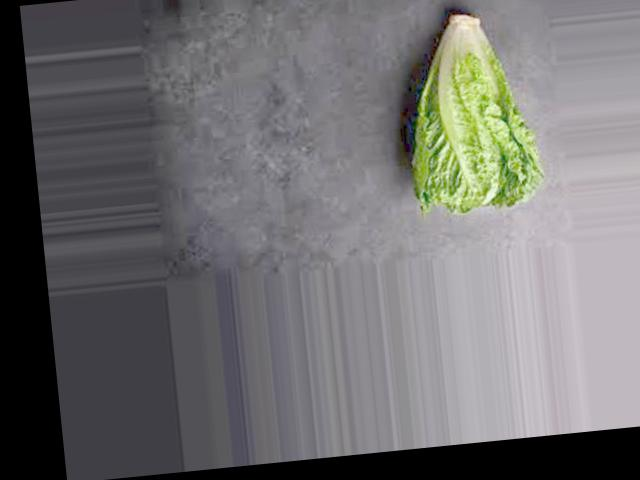lettuce: (396, 23, 543, 214)
